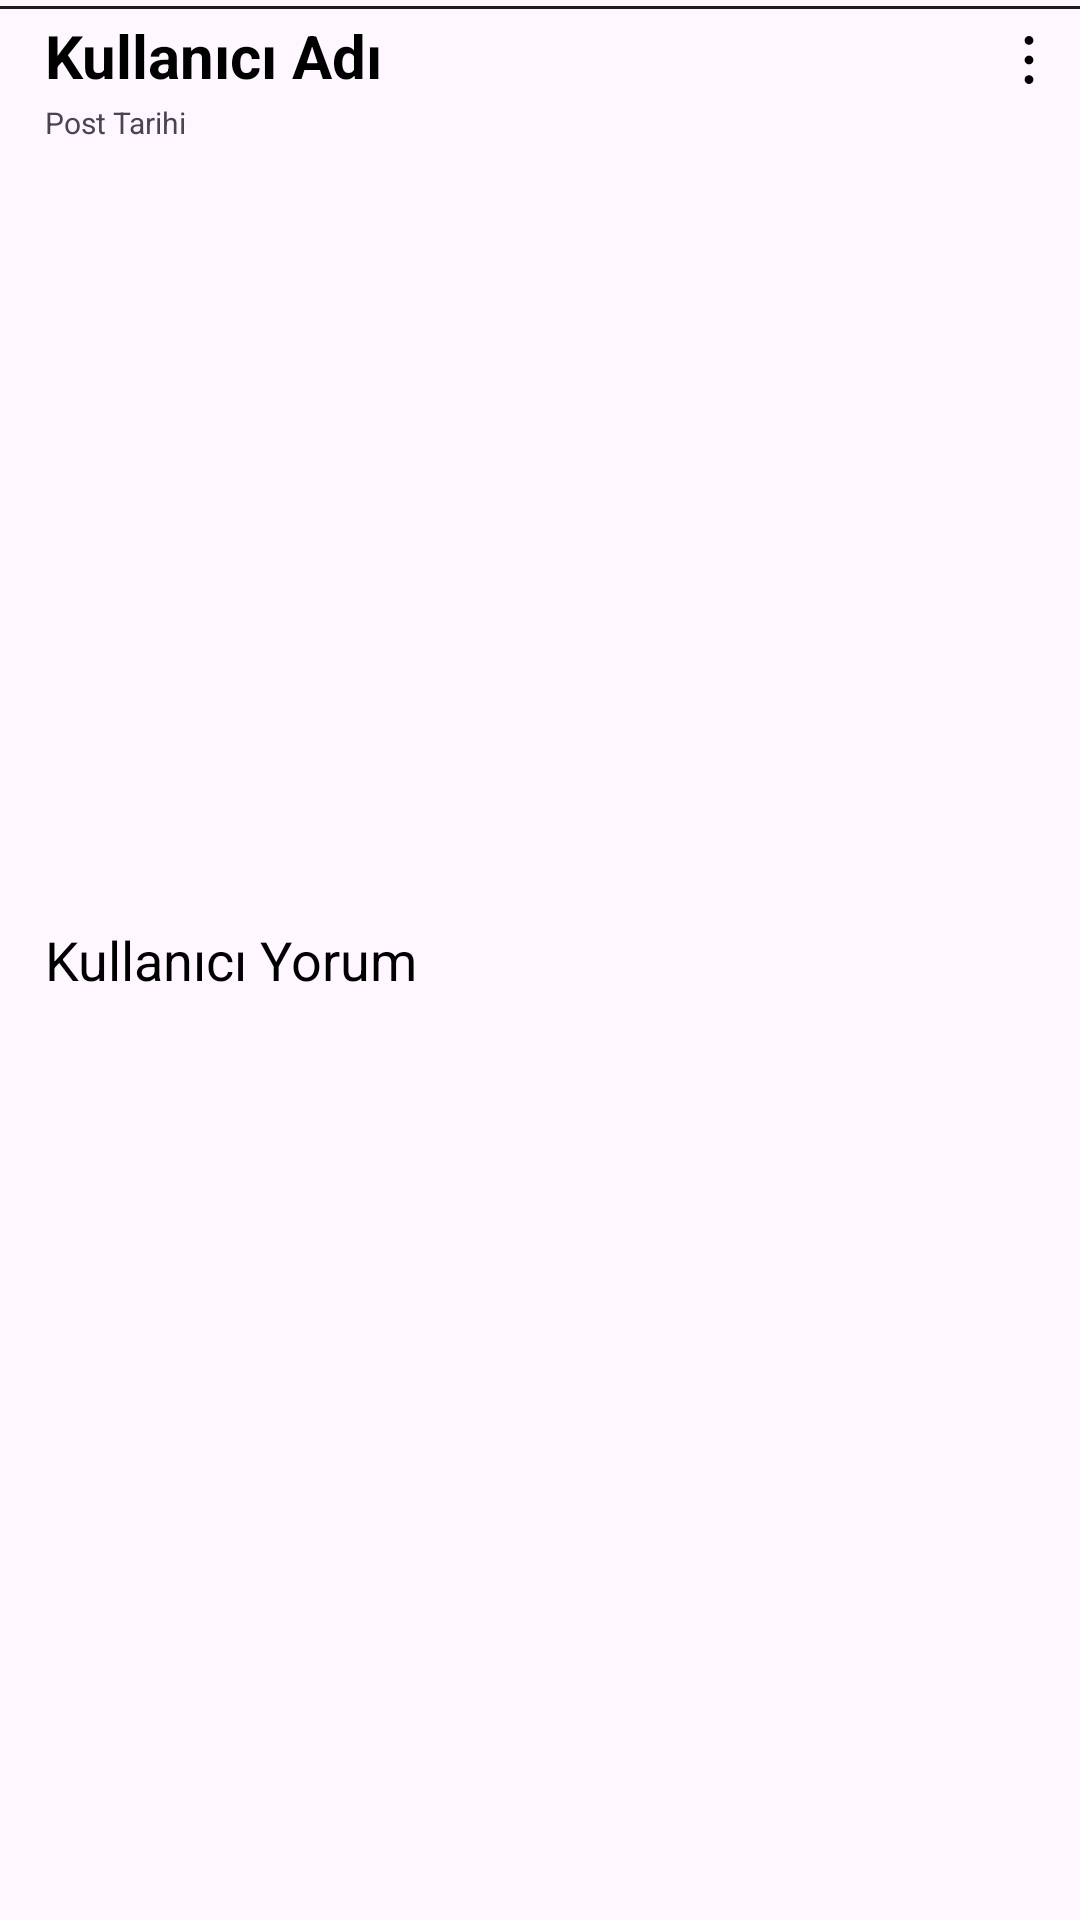

Icons on this 1080*1920 Android screen, each with its box as (x1,y1,x2,y2):
more: (1024,36,1034,84)
